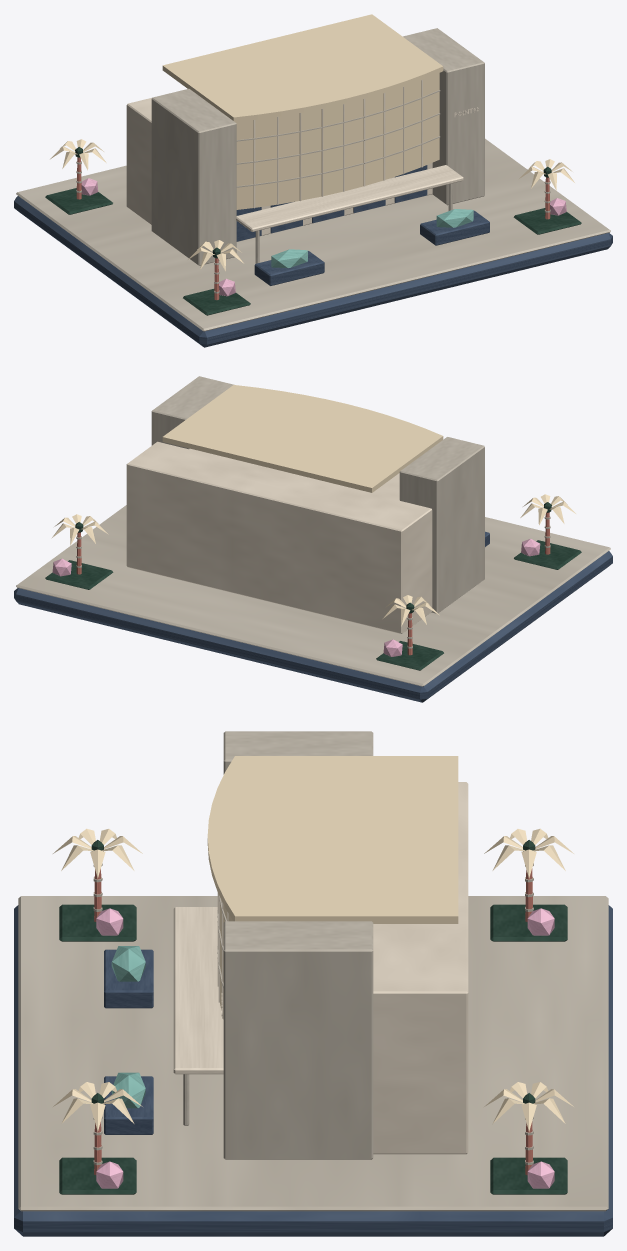
File: point-90-diorama.glb
3 renders of one model, top to bottom at view 1: azimuth 30°, elevation 25°; view 2: azimuth 150°, elevation 25°; view 3: azimuth 270°, elevation 25°, orthographic. The views are drawn at different scales.
Visible parts, largest first — view 1: point-90; view 2: point-90; view 3: point-90.
Boxes of the visible parts, left/top/right/bottom form: point-90: left=14, top=14, right=612, bottom=347; point-90: left=14, top=376, right=612, bottom=702; point-90: left=14, top=731, right=612, bottom=1236.
Bounding box in the file's own units: 15 × 5.44 × 12.
1 material, 1 textured.
